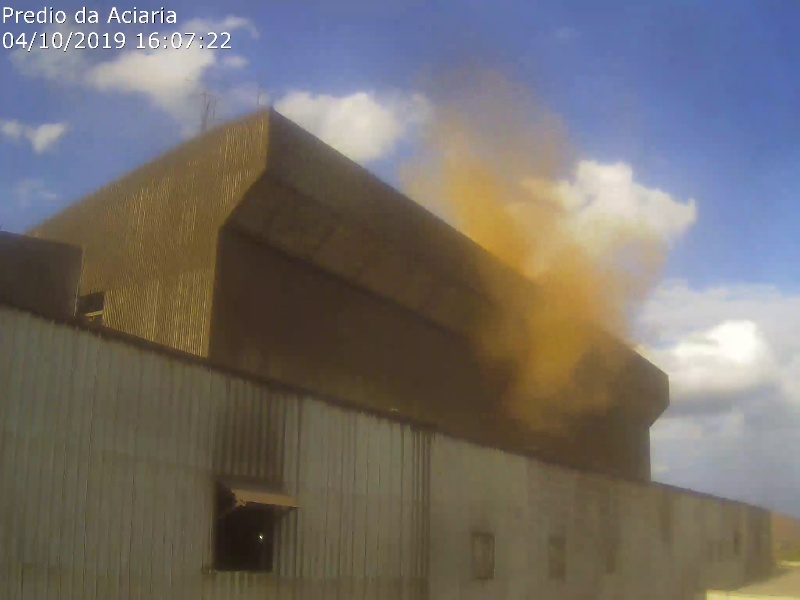bom: (1, 1, 279, 177), (591, 3, 800, 195)
pessimo: (460, 237, 670, 423), (456, 209, 676, 248)
ruim: (424, 74, 563, 206)
